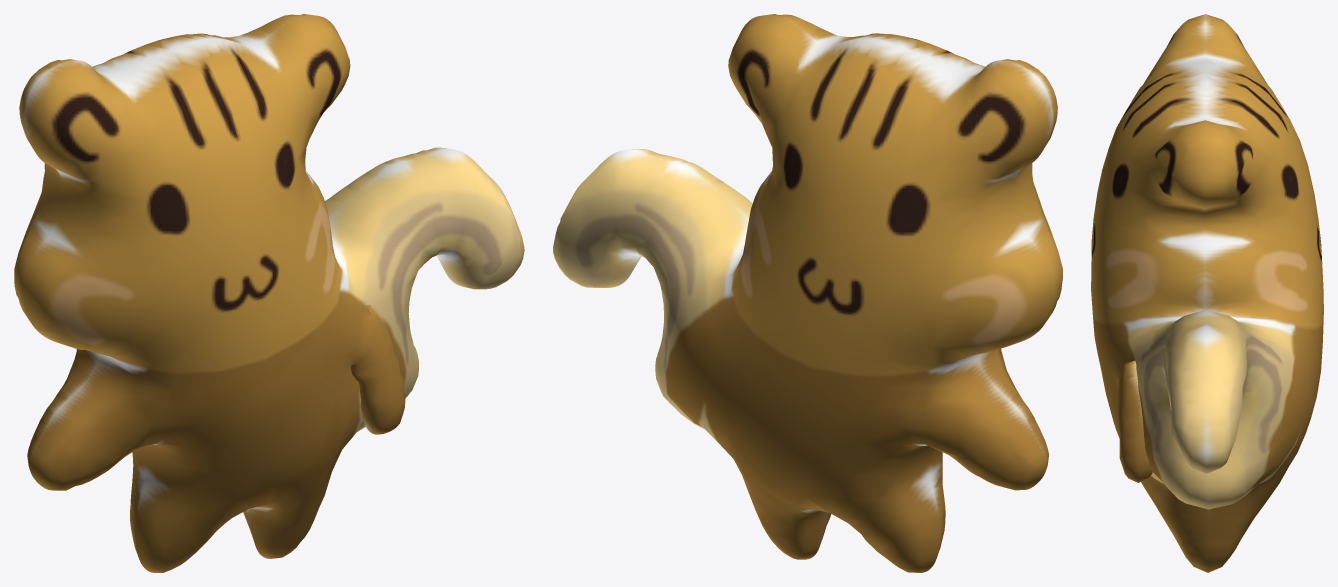
File: SquirrelAnim.glb
3 views of the same model, side by side, from view 1: azimuth 30°, elevation 25°; view 2: azimuth 150°, elevation 25°; view 3: azimuth 270°, elevation 25° (orthographic). The views are drawn at different scales.
Bounding box in the file's own units: 2.15 × 2.25 × 1.02.
Materials: 1 (1 with a texture image).
